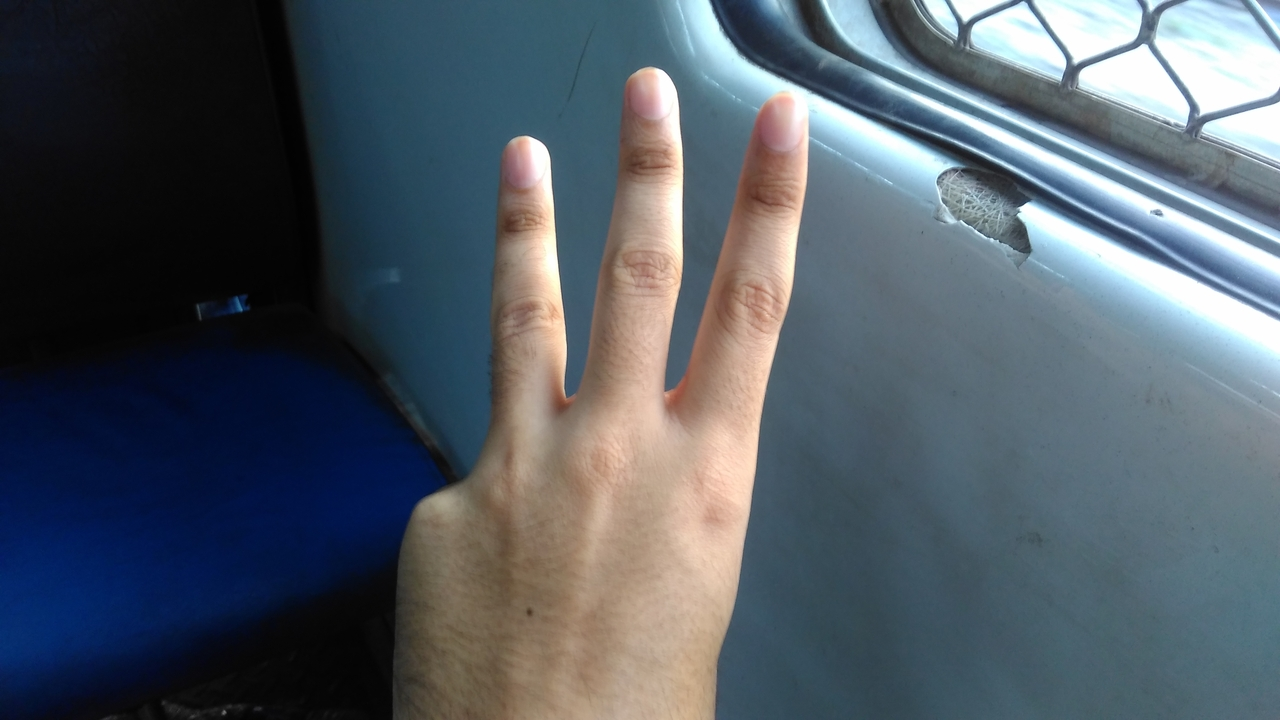fingertip: (750, 80, 814, 156), (620, 58, 682, 126), (492, 132, 550, 192)
